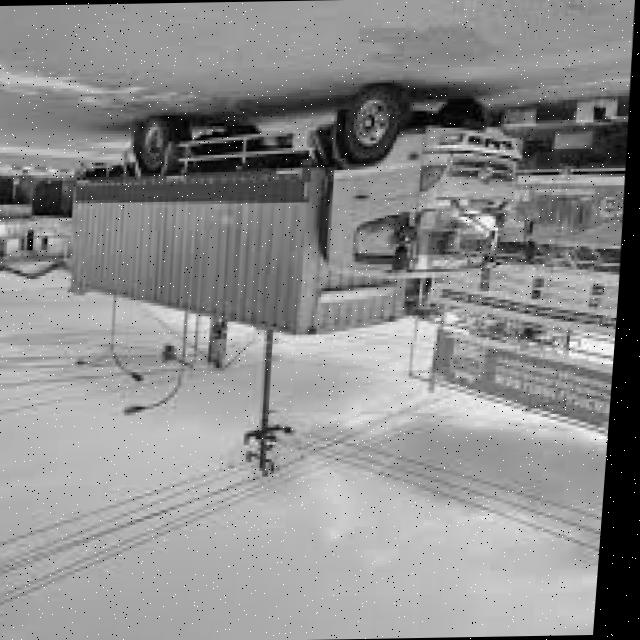truck: (302, 75, 544, 295)
